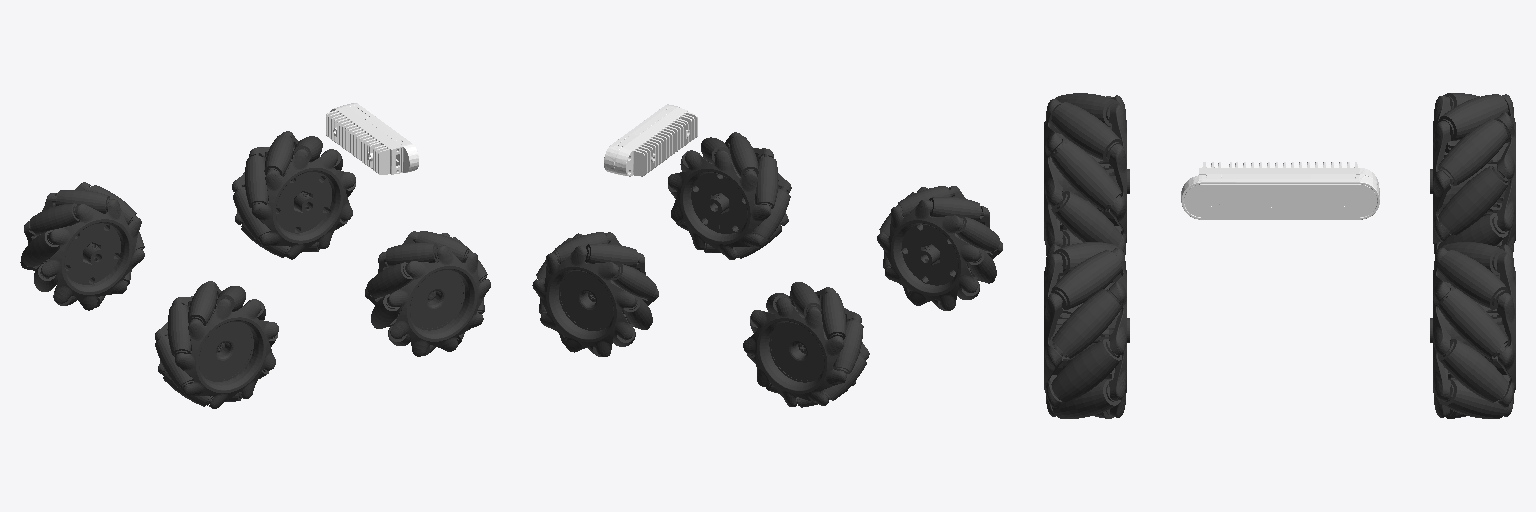
The robot description file, URDF, robot "ROSMASTER-M3":
<?xml version="1.0"?>
<!-- =================================================================================== -->
<!-- |    
This document was autogenerated by xacro from 
/home/pavan/Downloads/SUTD/DesignProject/navrl-bench/m3_ros2_ws/install/m3_ros2/share/m3_ros2/urdf/ROSMASTER-M3.xacro | -->
<!-- |    EDITING THIS FILE BY HAND IS NOT RECOMMENDED                                 | -->
<!-- =================================================================================== -->
<robot name="ROSMASTER-M3">
  <!-- depth camera type -->
  <material name="black">
    <color rgba="0.1 0.1 0.1 1.0"/>
  </material>
  <material name="blue">
    <color rgba="0.0 0.0 0.8 1.0"/>
  </material>
  <material name="green">
    <color rgba="0.4 0.9 0.4 1.0"/>
  </material>
  <material name="gray">
    <color rgba="0.7 0.7 0.7 1.0"/>
  </material>
  <material name="darkgray">
    <color rgba="0.3 0.3 0.3 1.0"/>
  </material>
  <material name="red">
    <color rgba="0.8 0.0 0.0 1.0"/>
  </material>
  <material name="white">
    <color rgba="1.0 1.0 1.0 1.0"/>
  </material>
  <material name="yellow">
    <color rgba="0.8 0.8 0.0 1.0"/>
  </material>
  <!-- lidar template -->
  <!--base_footprint投影点-->
  <link name="base_footprint"> 
</link>
  <joint name="base-Joint" type="fixed">
    <origin rpy="0 0 0" xyz="0 0 0.03"/>
    <parent link="base_footprint"/>
    <child link="base_link"/>
  </joint>
  <!--base_link底盘-->
  <link name="base_link">
    <inertial>
      <origin rpy="0 0 0" xyz="-0.02984496350171 -0.000481153572635691 0.0765287728161752"/>
      <mass value="0.99934444005899"/>
      <inertia ixx="0.00160080186836152" ixy="3.98571758764143E-06" ixz="-0.000131328647411587" iyy="0.00221164246632588" iyz="5.5986256573897E-07" izz="0.00344837201415694"/>
    </inertial>
    <visual>
      <origin rpy="0 0 0" xyz="0 0 0"/>
      <geometry>
        <mesh filename="../meshes/base_link.STL"/>
      </geometry>
      <material name="">
        <color rgba="0.776470588235294 0.756862745098039 0.737254901960784 1"/>
      </material>
    </visual>
    <collision>
      <origin rpy="0 0 0" xyz="0 0 0"/>
      <geometry>
        <mesh filename="../meshes/base_link.STL"/>
      </geometry>
    </collision>
  </link>
  <!--depth camera -->
  <link name="camera_link">
    <inertial>
      <origin rpy="0 0 0" xyz="-0.000338233024565315 0.000873950945523536 0.000135673799547986"/>
      <mass value="0.0238818467584584"/>
      <inertia ixx="1.37649367410834E-05" ixy="1.24830471237178E-07" ixz="1.37445274067818E-08" iyy="1.59984966748044E-06" iyz="2.27879404919167E-08" izz="1.39784153878035E-05"/>
    </inertial>
    <visual>
      <origin rpy="0 0 0" xyz="0 0 0"/>
      <geometry>
        <mesh filename="../meshes/camera_Link.STL"/>
      </geometry>
      <material name="">
        <color rgba="1 1 1 1"/>
      </material>
    </visual>
    <collision>
      <origin rpy="0 1.57 0" xyz="0 0 0"/>
      <geometry>
        <mesh filename="../meshes/camera_Link.STL"/>
      </geometry>
    </collision>
  </link>
  <joint name="camera-Joint" type="fixed">
    <origin rpy="0 0 0" xyz="0.089279 0 0.087335"/>
    <parent link="base_link"/>
    <child link="camera_link"/>
  </joint>
  <!-- ansijan camera -->
  <link name="ascamera_hp60c_camera_link_0"> </link>
  <!-- <joint name="simcamera-Joint" type="continuous"> -->
  <joint name="simcamera-Joint" type="fixed">
    <origin rpy="-1.57 0 -1.57" xyz="0 0 0"/>
    <parent link="camera_link"/>
    <child link="ascamera_hp60c_camera_link_0"/>
    <!-- <axis xyz="0 0 1"/> -->
  </joint>
  <!-- <xacro:if value="${camera_type == 'dabai_dcw2'}">
<link name="${prefix}${ascamera_hp60c_camera_link_0}"> </link> <joint name="${prefix}simcamera-Joint" type="fixed"> <origin xyz="0 0 0" rpy="0 0 0" /> <parent link="${prefix}camera_link" /> <child link="${prefix}${ascamera_hp60c_camera_link_0}" /> </joint>
</xacro:if> -->
  <!--IMU传感器  -->
  <link name="imu_frame">
    <inertial>
      <origin rpy="0 0 0" xyz="-0.00179025847750633 0.00264720509651104 9.90269646727743E-05"/>
      <mass value="0.0189075829050396"/>
      <inertia ixx="4.73477803493336E-06" ixy="1.6745074479594E-09" ixz="8.93836267742825E-10" iyy="2.12052097184731E-06" iyz="-3.87767258085538E-10" izz="6.74576051815791E-06"/>
    </inertial>
    <visual>
      <origin rpy="0 0 0" xyz="0 0 0"/>
      <geometry>
        <mesh filename="../meshes/IMU_Link.STL"/>
      </geometry>
      <material name="">
        <color rgba="1 1 1 1"/>
      </material>
    </visual>
    <collision>
      <origin rpy="0 0 0" xyz="0 0 0"/>
      <geometry>
        <mesh filename="../meshes/IMU_Link.STL"/>
      </geometry>
    </collision>
  </link>
  <joint name="IMU_Joint" type="fixed">
    <origin rpy="0 0  -1.5708" xyz="0.067303 0.0071499 0.053691"/>
    <parent link="base_link"/>
    <child link="imu_frame"/>
  </joint>
  <!--left front wheel  -->
  <link name="lwheel1_Link">
    <inertial>
      <origin rpy="0 0 0" xyz="1.53560272599211E-05 1.98250838429059E-06 -0.0108846203867566"/>
      <mass value="0.0989881984813495"/>
      <inertia ixx="4.45414870929911E-05" ixy="1.57090619994683E-10" ixz="2.38113616704235E-09" iyy="4.45412348155267E-05" iyz="8.43582144052669E-10" izz="7.4602274246963E-05"/>
    </inertial>
    <visual>
      <origin rpy="0 0 0" xyz="0 0 0"/>
      <geometry>
        <mesh filename="../meshes/lwheel1_Link.STL"/>
      </geometry>
      <material name="">
        <color rgba="0.298039215686275 0.298039215686275 0.298039215686275 1"/>
      </material>
    </visual>
    <collision>
      <origin rpy="0 0 0" xyz="0 0 0"/>
      <geometry>
        <mesh filename="../meshes/lwheel1_Link.STL"/>
      </geometry>
    </collision>
  </link>
  <joint name="lwheel1_Joint" type="continuous">
    <origin rpy="-1.5708 -1.5708 0" xyz="0.0795 0.09775 0.0145"/>
    <parent link="base_link"/>
    <child link="lwheel1_Link"/>
    <axis xyz="0 0 1"/>
  </joint>
  <!-- left rear wheel -->
  <link name="lwheel2_Link">
    <inertial>
      <origin rpy="0 0 0" xyz="1.28765327241931E-05 -2.45112629573135E-06 -0.0108847338593798"/>
      <mass value="0.0989867715411591"/>
      <inertia ixx="4.45411429026561E-05" ixy="3.49581085220021E-10" ixz="4.25224100985959E-10" iyy="4.45402969289142E-05" iyz="-2.52453535532053E-09" izz="7.46016514000059E-05"/>
    </inertial>
    <visual>
      <origin rpy="0 0 0" xyz="0 0 0"/>
      <geometry>
        <mesh filename="../meshes/lwheel2_Link.STL"/>
      </geometry>
      <material name="">
        <color rgba="0.298039215686275 0.298039215686275 0.298039215686275 1"/>
      </material>
    </visual>
    <collision>
      <origin rpy="0 0 0" xyz="0 0 0"/>
      <geometry>
        <mesh filename="../meshes/lwheel2_Link.STL"/>
      </geometry>
    </collision>
  </link>
  <joint name="lwheel2_Joint" type="continuous">
    <origin rpy="-1.5708 -1.5708 0" xyz="-0.0795 0.09775 0.014498"/>
    <parent link="base_link"/>
    <child link="lwheel2_Link"/>
    <axis xyz="0 0 1"/>
  </joint>
  <!--right front wheel -->
  <link name="rwheel1_Link">
    <inertial>
      <origin rpy="0 0 0" xyz="-1.44743128333881E-05 -2.39019759440406E-06 -0.0108847338867027"/>
      <mass value="0.0989867702680243"/>
      <inertia ixx="4.45411446128523E-05" ixy="3.47174208470481E-10" ixz="4.17555484487362E-10" iyy="4.45402942652055E-05" iyz="-2.52548693570598E-09" izz="7.46016508017433E-05"/>
    </inertial>
    <visual>
      <origin rpy="0 0 0" xyz="0 0 0"/>
      <geometry>
        <mesh filename="../meshes/rwheel1_Link.STL"/>
      </geometry>
      <material name="">
        <color rgba="0.298039215686275 0.298039215686275 0.298039215686275 1"/>
      </material>
    </visual>
    <collision>
      <origin rpy="0 0 0" xyz="0 0 0"/>
      <geometry>
        <mesh filename="../meshes/rwheel1_Link.STL"/>
      </geometry>
    </collision>
  </link>
  <joint name="rwheel1_Joint" type="continuous">
    <origin rpy="1.5708 1.5708 0" xyz="0.0795 -0.09775 0.0145"/>
    <parent link="base_link"/>
    <child link="rwheel1_Link"/>
    <axis xyz="0 0 1"/>
  </joint>
  <!-- right rear wheel -->
  <link name="rwheel2_Link">
    <inertial>
      <origin rpy="0 0 0" xyz="-1.53534838632473E-05 -2.00205735528119E-06 -0.0108846205927622"/>
      <mass value="0.098988198599032"/>
      <inertia ixx="4.45414873742238E-05" ixy="1.57073466808373E-10" ixz="-2.37970709300959E-09" iyy="4.45412346444611E-05" iyz="-8.4683900934824E-10" izz="7.46022743347392E-05"/>
    </inertial>
    <visual>
      <origin rpy="0 0 0" xyz="0 0 0"/>
      <geometry>
        <mesh filename="../meshes/rwheel2_Link.STL"/>
      </geometry>
      <material name="">
        <color rgba="0.298039215686275 0.298039215686275 0.298039215686275 1"/>
      </material>
    </visual>
    <collision>
      <origin rpy="0 0 0" xyz="0 0 0"/>
      <geometry>
        <mesh filename="../meshes/rwheel2_Link.STL"/>
      </geometry>
    </collision>
  </link>
  <joint name="rwheel2_Joint" type="continuous">
    <origin rpy="1.5708 1.5708 0" xyz="-0.0795 -0.09775 0.014498"/>
    <parent link="base_link"/>
    <child link="rwheel2_Link"/>
    <axis xyz="0 0 1"/>
  </joint>
  <!-- Dual lidar -->
  <!-- Right front lidar -->
  <link name="laser0_frame">
    <inertial>
      <origin rpy="0 0 0" xyz="-0.0269843281171733 0.00816587315971244 -0.0236277413611298"/>
      <mass value="0.0308225741620077"/>
      <inertia ixx="3.82222338459333E-06" ixy="1.9498522956423E-06" ixz="-3.94061068649985E-08" iyy="1.37519890249445E-05" iyz="1.02396804900856E-07" izz="1.67927144171134E-05"/>
    </inertial>
    <visual>
      <origin rpy="0 0 0" xyz="0 0 0"/>
      <geometry>
        <mesh filename="../meshes/Tmini_Plus2_1_Link.STL"/>
      </geometry>
      <material name="">
        <color rgba="0.113725490196078 0.113725490196078 0.113725490196078 1"/>
      </material>
    </visual>
    <collision>
      <origin rpy="0 0 0" xyz="0 0 0"/>
      <geometry>
        <mesh filename="../meshes/Tmini_Plus2_1_Link.STL"/>
      </geometry>
    </collision>
  </link>
  <joint name="laser_link_front_Joint" type="fixed">
    <origin rpy="0 0 0" xyz="0.10503 -0.08602 0.099466"/>
    <parent link="base_link"/>
    <child link="laser0_frame"/>
    <axis xyz="0 0 0"/>
  </joint>
  <!--left rear lidar-->
  <link name="laser1_frame">
    <inertial>
      <origin rpy="0 0 0" xyz="0.0269847162349362 -0.00816244761834535 -0.023628830709695"/>
      <mass value="0.0308225741575237"/>
      <inertia ixx="3.82201771047017E-06" ixy="1.94932291718845E-06" ixz="3.9683496469893E-08" iyy="1.37522209920578E-05" iyz="-1.02785775330184E-07" izz="1.67926881225509E-05"/>
    </inertial>
    <visual>
      <origin rpy="0 0 0" xyz="0 0 0"/>
      <geometry>
        <mesh filename="../meshes/Tmini_Plus2_2_Link.STL"/>
      </geometry>
      <material name="">
        <color rgba="0.113725490196078 0.113725490196078 0.113725490196078 1"/>
      </material>
    </visual>
    <collision>
      <origin rpy="0 0 0" xyz="0 0 0"/>
      <geometry>
        <mesh filename="../meshes/Tmini_Plus2_2_Link.STL"/>
      </geometry>
    </collision>
  </link>
  <joint name="laser_link_rear_Joint" type="fixed">
    <origin rpy="0 0 0" xyz="-0.13 0.086 0.099477"/>
    <parent link="base_link"/>
    <child link="laser1_frame"/>
    <axis xyz="0 0 0"/>
  </joint>
  <!--virtual lidar  -->
  <link name="lasersim_frame"> </link>
  <joint name="lasersim_link_Joint" type="fixed">
    <origin rpy="0 0 0" xyz="0 0 0.099466"/>
    <parent link="base_link"/>
    <child link="lasersim_frame"/>
  </joint>
  <!-- instantiate lidar -->
</robot>

--- What the picture shows (computed from the rendered views, not written in the file) ---
3 views of the same robot in one strip: view 1: azimuth 30°, elevation 25°; view 2: azimuth 150°, elevation 25°; view 3: azimuth 270°, elevation 25° (orthographic).
Model ROSMASTER-M3 with 12 links and 11 joints (4 continuous, 7 fixed), rooted at base_footprint, posed every joint at zero.
Links seen in each view (by area): view 1: rwheel2_Link, lwheel1_Link, lwheel2_Link, rwheel1_Link, camera_link; view 2: rwheel1_Link, lwheel2_Link, lwheel1_Link, rwheel2_Link, camera_link; view 3: rwheel1_Link, lwheel1_Link, lwheel2_Link, rwheel2_Link, camera_link.
Boxes of the visible links, x1,y1,x2,y2 form: rwheel2_Link: (155,281,278,408); lwheel1_Link: (232,131,355,259); lwheel2_Link: (20,182,144,310); rwheel1_Link: (365,231,490,356); camera_link: (326,103,418,174); rwheel1_Link: (668,132,791,259); lwheel2_Link: (743,282,869,407); lwheel1_Link: (532,232,658,356); rwheel2_Link: (877,186,1002,310); camera_link: (604,104,697,176); rwheel1_Link: (1044,242,1129,418); lwheel1_Link: (1430,242,1515,418); lwheel2_Link: (1430,93,1515,254); rwheel2_Link: (1044,93,1129,255); camera_link: (1181,162,1379,219).
Size in the robot's own frame: 0.239 by 0.2124 by 0.1226 metres.
Meshes: 9 distinct files referenced, 5 mesh visuals loaded (5 binary STL); not drawn: 4 (reference not matched to a file when rendering).
